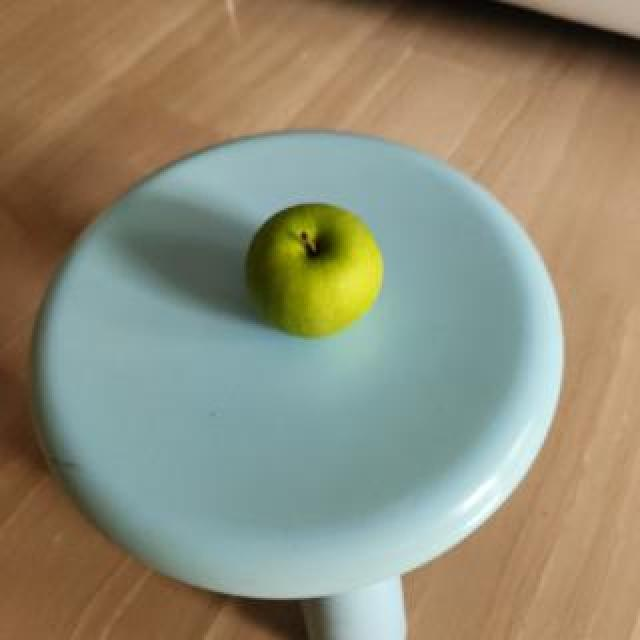Fresh Apple: (229, 194, 382, 342)
